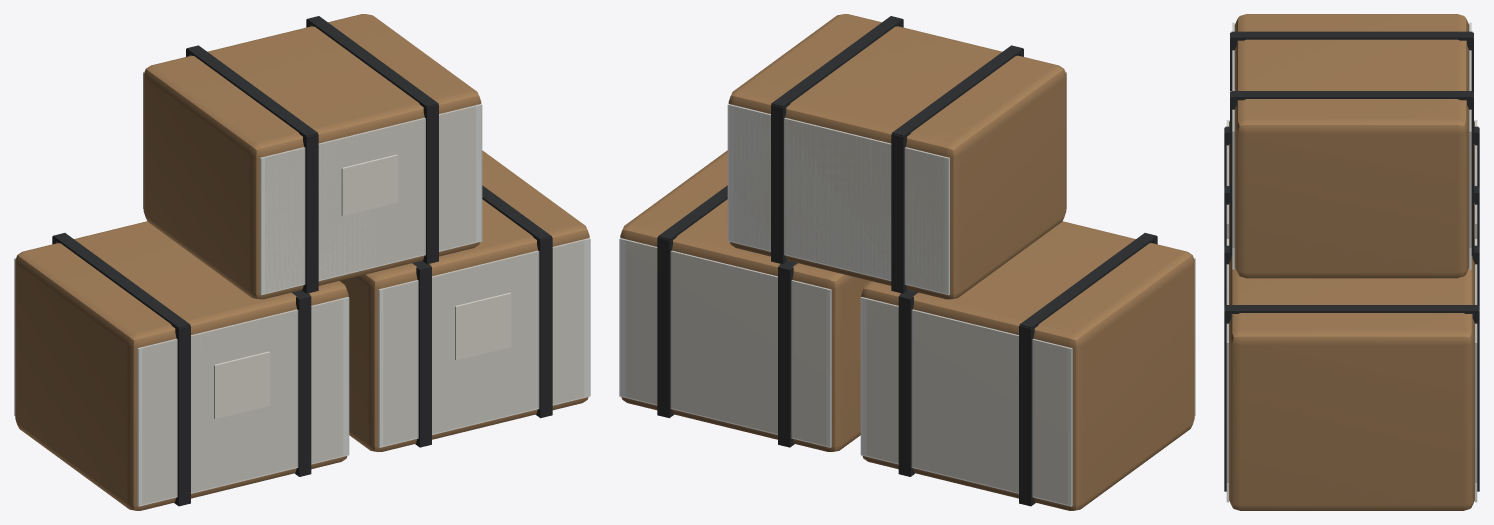
The model's file is prop_loot_contraband_bales.glb.
The picture shows the model from 3 angles, left to right: view 1: azimuth 30°, elevation 25°; view 2: azimuth 150°, elevation 25°; view 3: azimuth 270°, elevation 25°; orthographic projection.
Parts seen in each view (by area): view 1: Bales; view 2: Bales; view 3: Bales.
Part boxes in pixels (left/top/right/bottom): Bales: left=14, top=14, right=590, bottom=510; Bales: left=619, top=14, right=1195, bottom=510; Bales: left=1224, top=14, right=1479, bottom=510.
Bounding box in the file's own units: 0.92 × 0.644 × 0.436.
